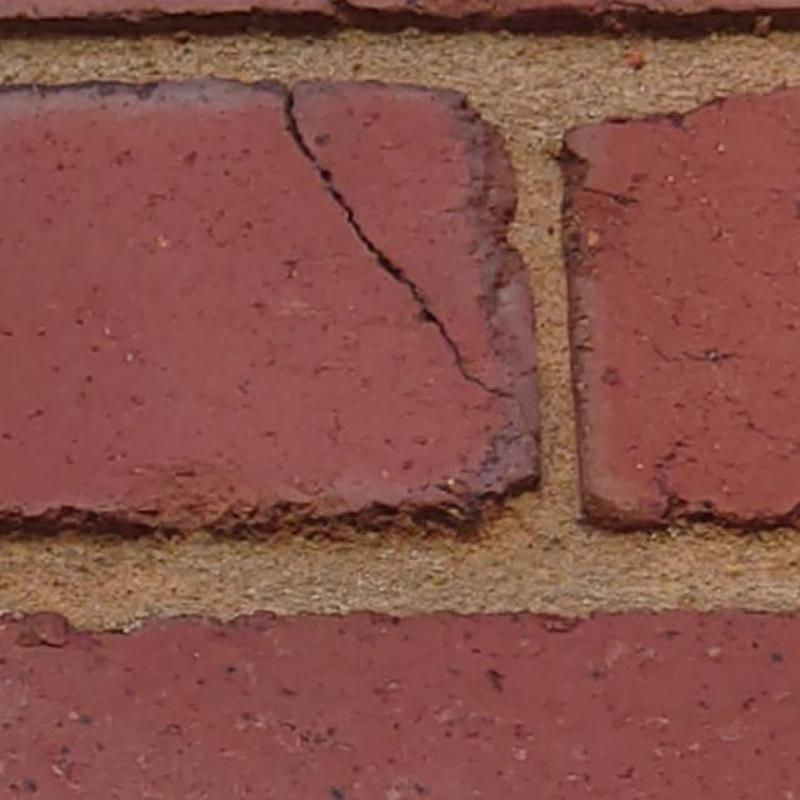pothole: (288, 92, 506, 396)
